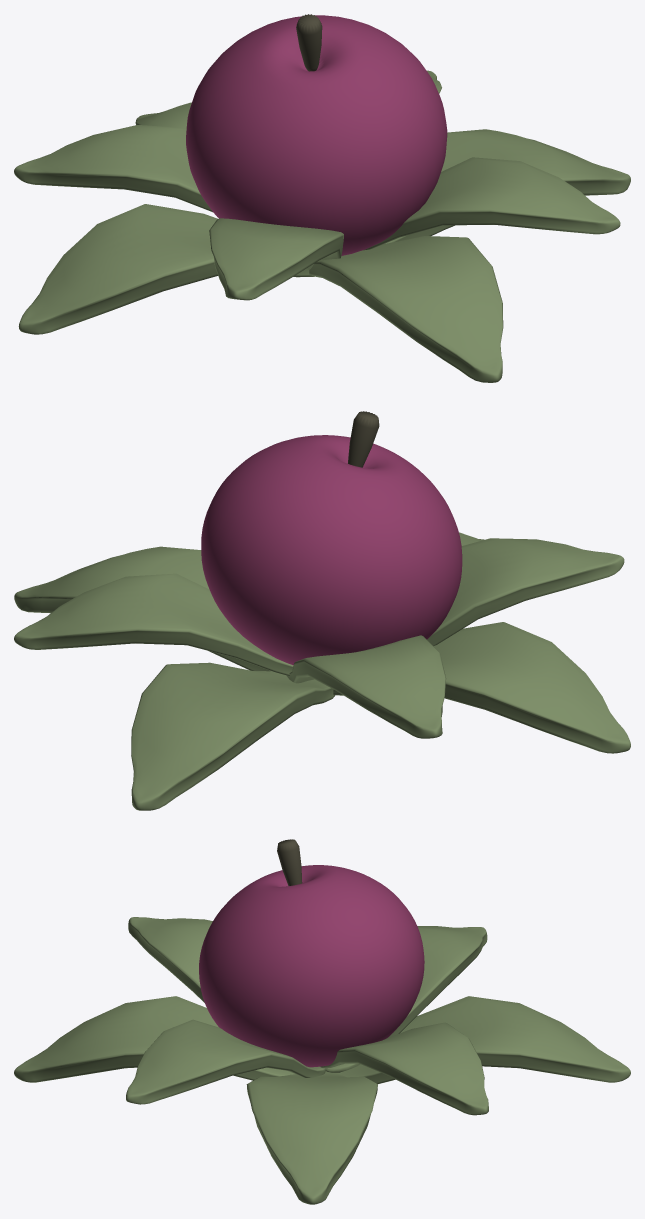
Rendered from BombFlowe_Asset.fbx.
3 renders of one model, top to bottom at view 1: azimuth 30°, elevation 25°; view 2: azimuth 150°, elevation 25°; view 3: azimuth 270°, elevation 25°, orthographic. The views are drawn at different scales.
Parts seen in each view (by area): view 1: pCube12; view 2: pCube12; view 3: pCube12.
Boxes of the visible parts, x1=… form: pCube12: x1=14, y1=14, x2=630, y2=382; pCube12: x1=14, y1=411, x2=630, y2=810; pCube12: x1=14, y1=839, x2=630, y2=1204.
Bounding box in the file's own units: 5.23 × 2.18 × 5.27.
